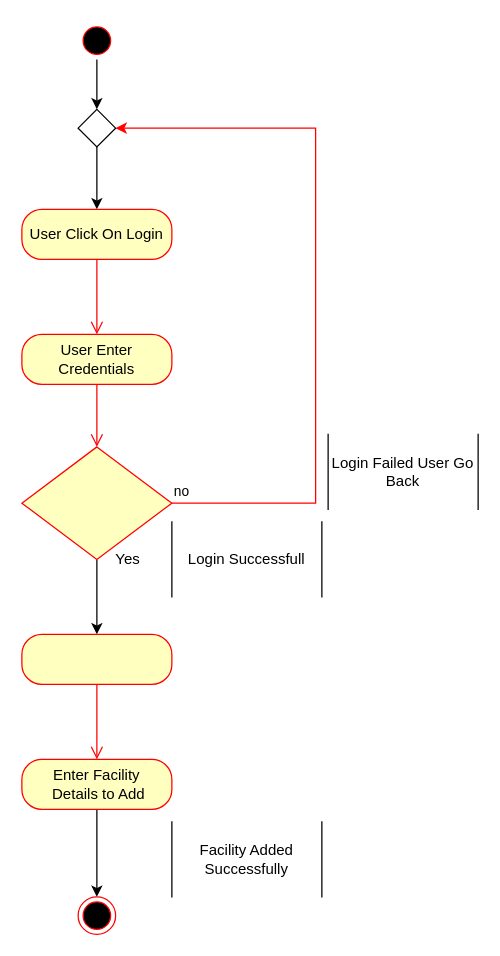
This 500x956 diagram has some shape labels left out. Each missing label, with the box of its shape:
Click on Add Facility: (21, 633, 172, 684)
User Credentials Will Be Checked in DB: (21, 446, 172, 559)
